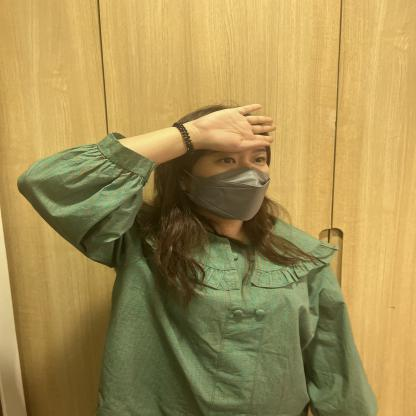Sick: (141, 104, 322, 173)
